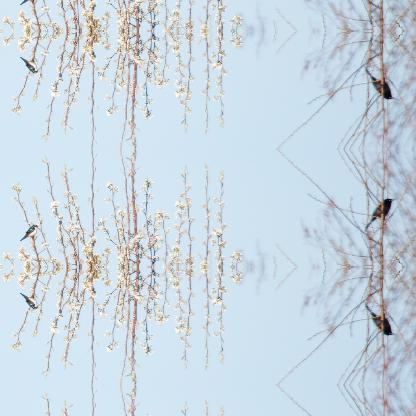Bird: (368, 195, 396, 223), (368, 73, 396, 101), (368, 310, 396, 338), (19, 225, 39, 241), (19, 55, 39, 71), (19, 292, 39, 308), (19, 0, 40, 5)
